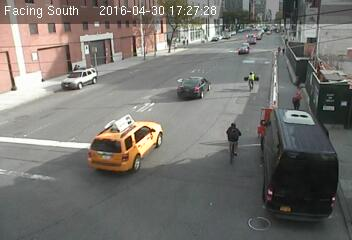neg: (97, 67, 125, 105), (314, 133, 337, 164), (300, 186, 322, 215), (317, 98, 339, 127), (116, 129, 136, 156), (295, 127, 314, 152), (267, 173, 286, 198), (41, 69, 57, 91), (156, 66, 172, 88), (266, 152, 282, 173), (302, 18, 318, 39), (127, 47, 142, 68), (155, 128, 169, 148), (184, 74, 198, 93), (328, 47, 341, 66), (275, 123, 288, 141), (140, 126, 153, 142), (200, 76, 210, 89), (312, 166, 320, 177)
pos: (218, 119, 247, 158), (288, 83, 309, 112), (242, 69, 261, 95), (182, 34, 193, 49), (164, 35, 174, 48), (71, 62, 80, 74), (280, 45, 289, 57), (282, 34, 291, 46), (176, 35, 185, 46), (273, 42, 281, 54)
